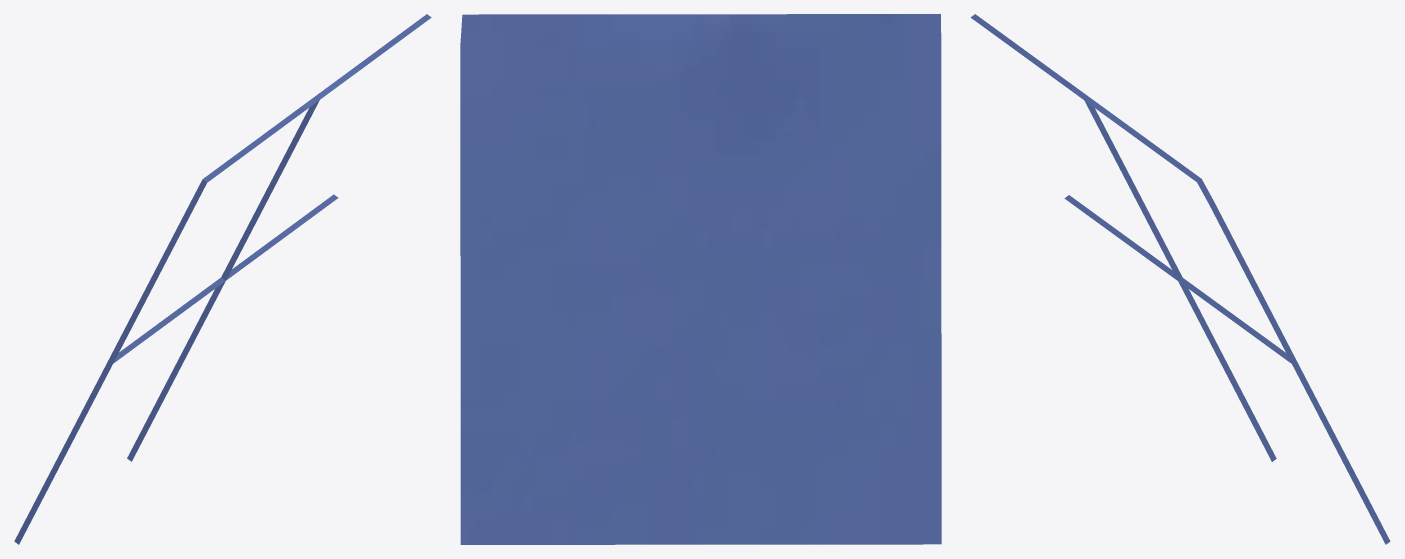
3 views of the same model, side by side, from view 1: azimuth 30°, elevation 25°; view 2: azimuth 150°, elevation 25°; view 3: azimuth 270°, elevation 25° (orthographic). The views are drawn at different scales.
Size of the model in its own units: 19688 by 17762 by 16479.
1 material, 1 textured.
